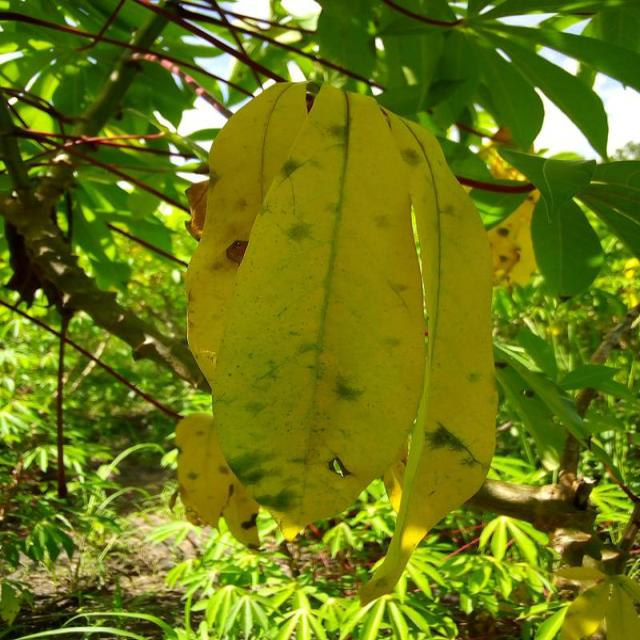cassava leaf: (184, 79, 498, 603)
